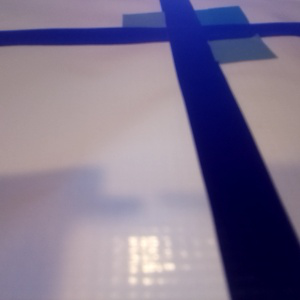bottom_right: (174, 26, 277, 62)
top_left: (122, 12, 197, 42)
top_right: (167, 6, 249, 39)
